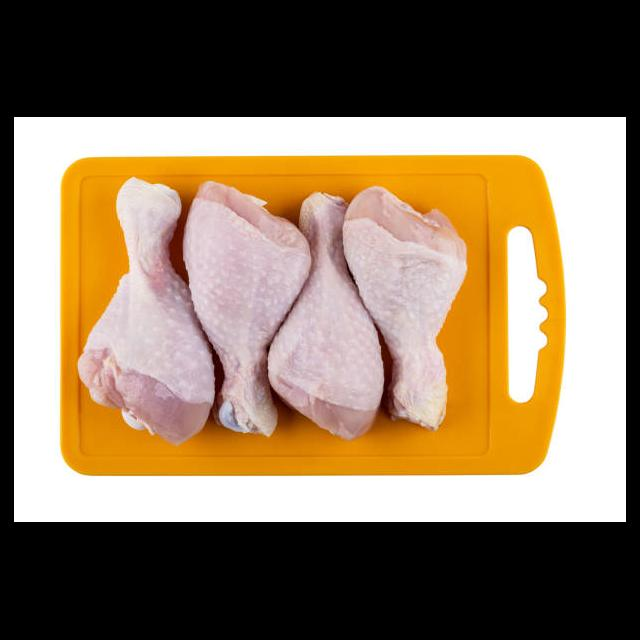chicken: (77, 176, 217, 444), (181, 178, 310, 442), (341, 186, 472, 432), (269, 184, 385, 444)
